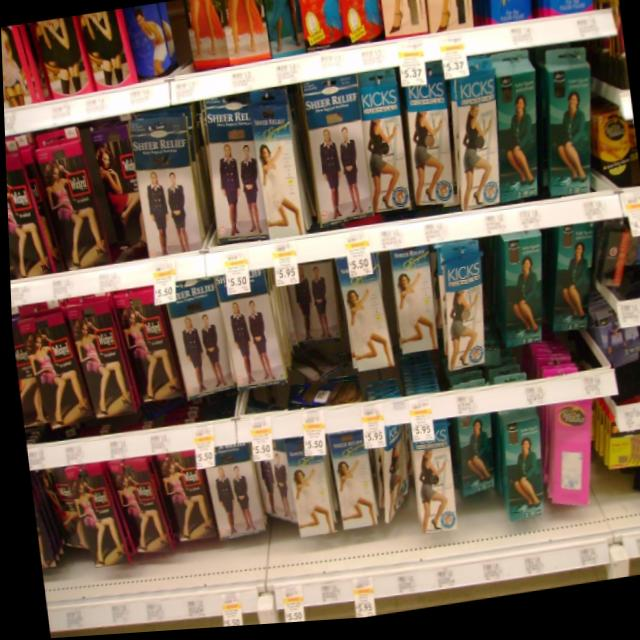q67: (1, 22, 34, 109)
